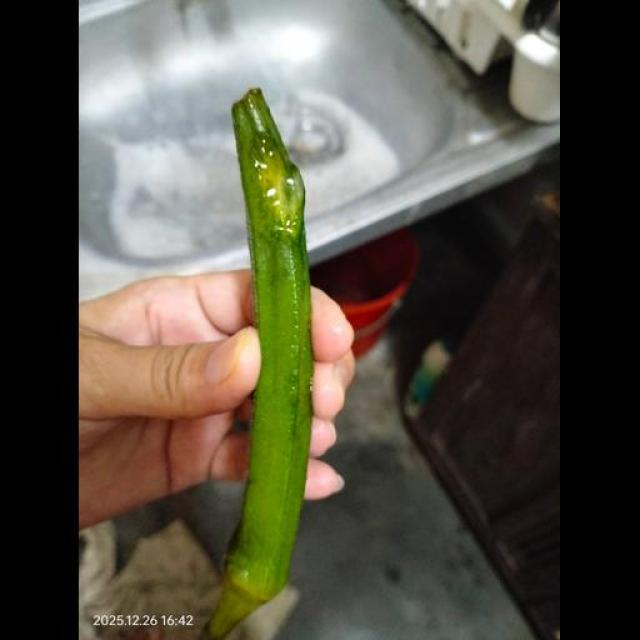organic: (208, 89, 312, 639)
